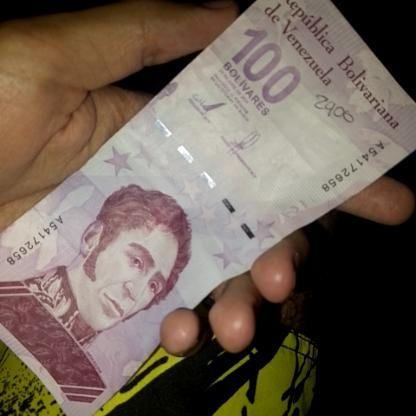one_hundred-front-vef: (0, 0, 408, 409)
